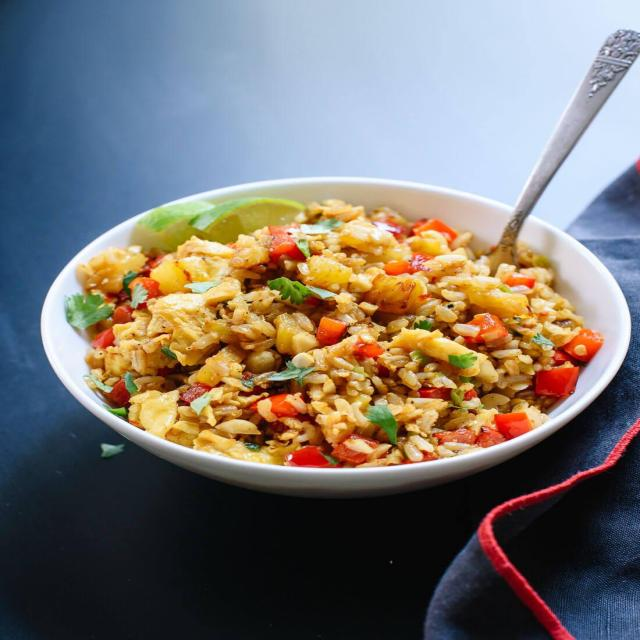Nasi Goreng: (66, 198, 604, 469)
